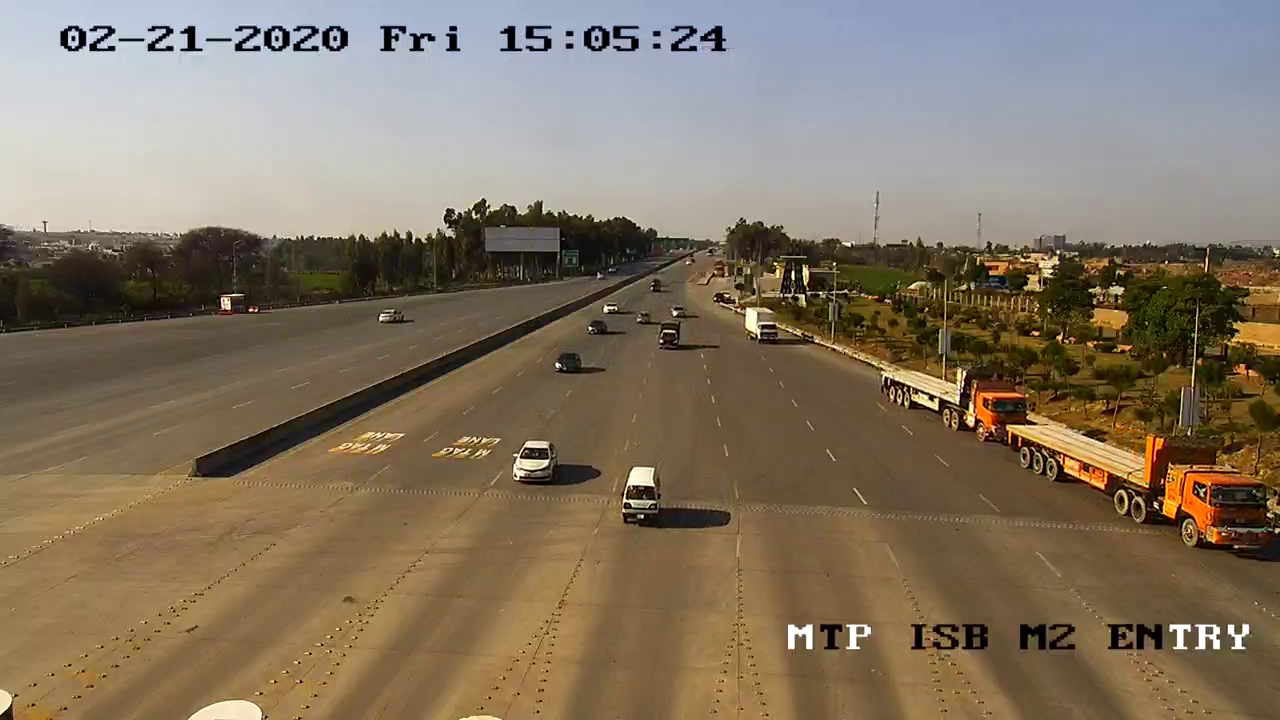f1: (609, 455, 671, 532), (503, 431, 563, 495)
f6: (996, 409, 1280, 569), (863, 346, 1034, 449)
